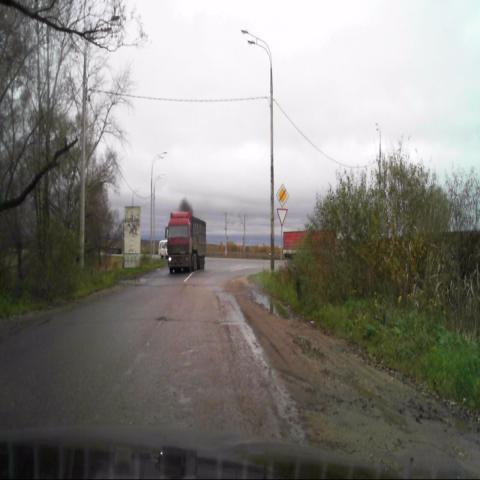2_2: (276, 183, 289, 207)
